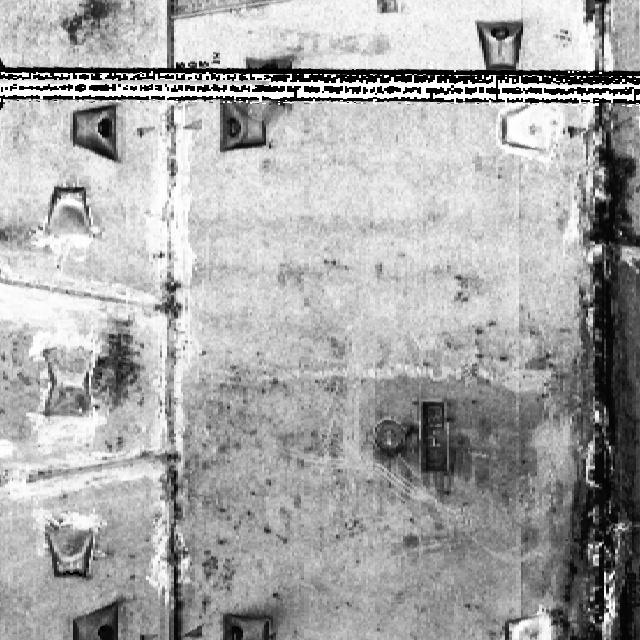leakage: (541, 97, 639, 639)
